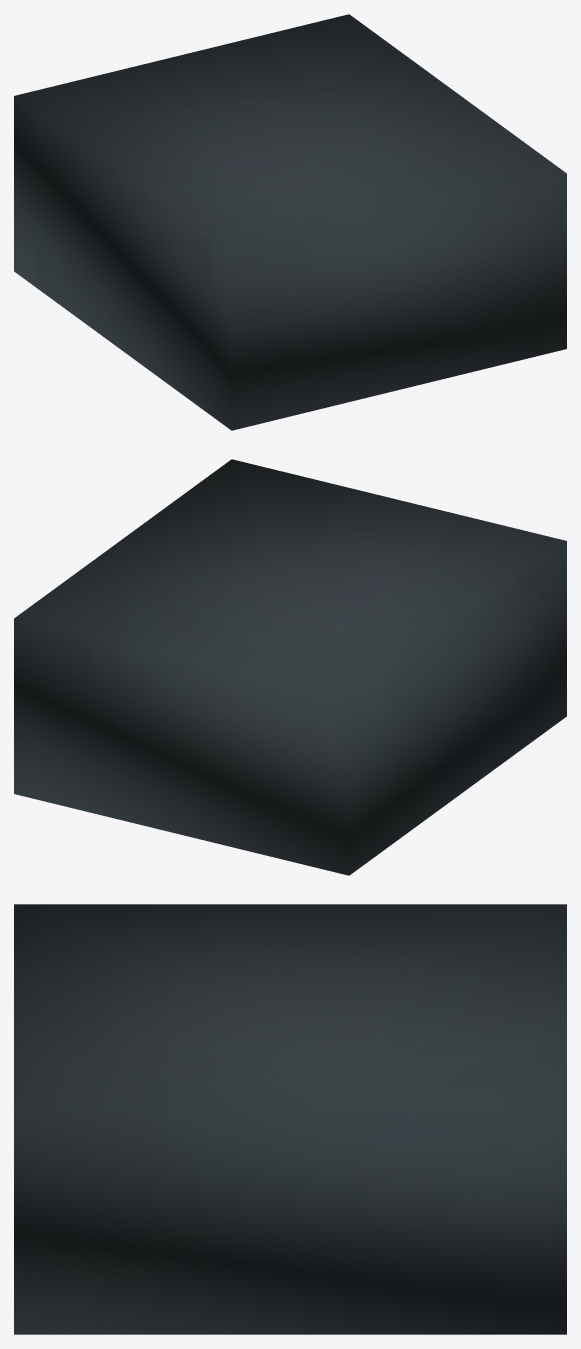
The model's file is SM_Tourelle_Corps.glb.
3 renders of one model, top to bottom at view 1: azimuth 30°, elevation 25°; view 2: azimuth 150°, elevation 25°; view 3: azimuth 270°, elevation 25°, orthographic. The views are drawn at different scales.
Size of the model in its own units: 1.78 by 0.8889 by 2.
Materials: 1 (1 with a texture image).
